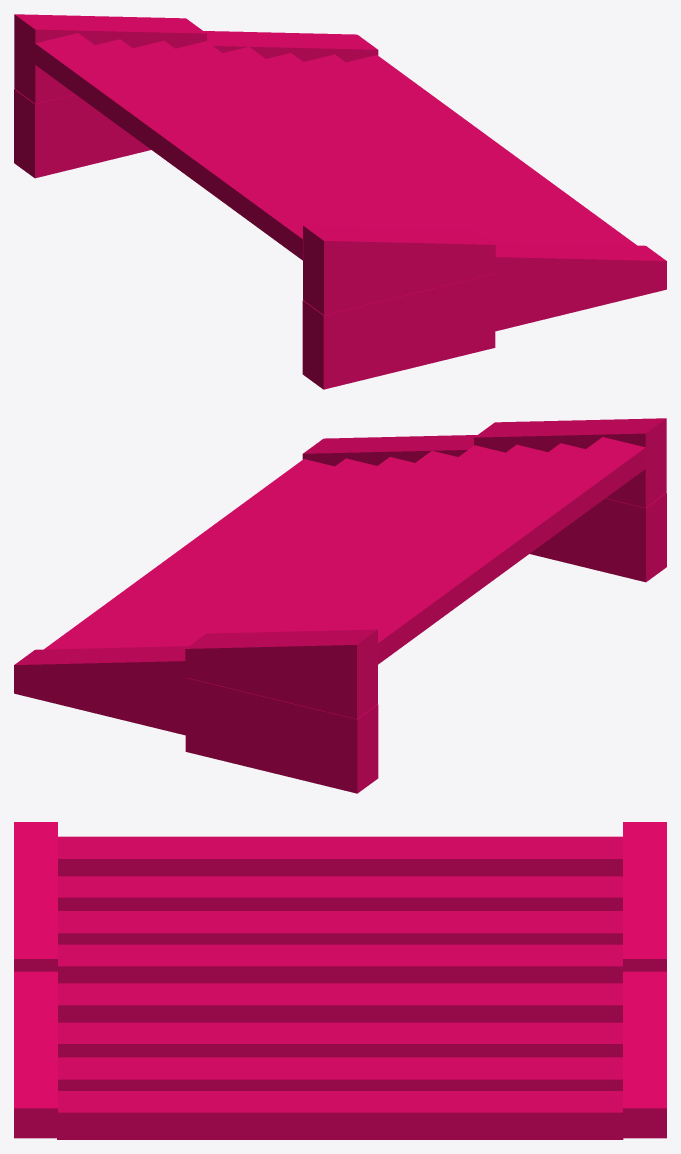
File: Stairs_04_Lod0.fbx
3 renders of one model, top to bottom at view 1: azimuth 30°, elevation 25°; view 2: azimuth 150°, elevation 25°; view 3: azimuth 270°, elevation 25°, orthographic. The views are drawn at different scales.
Visible parts, largest first — view 1: Stairs_04_Lod0; view 2: Stairs_04_Lod0; view 3: Stairs_04_Lod0.
Boxes of the visible parts, x1=… form: Stairs_04_Lod0: x1=14, y1=14, x2=666, y2=389; Stairs_04_Lod0: x1=14, y1=418, x2=666, y2=793; Stairs_04_Lod0: x1=14, y1=822, x2=666, y2=1139.
Size of the model in its own units: 962 by 398 by 1501.
